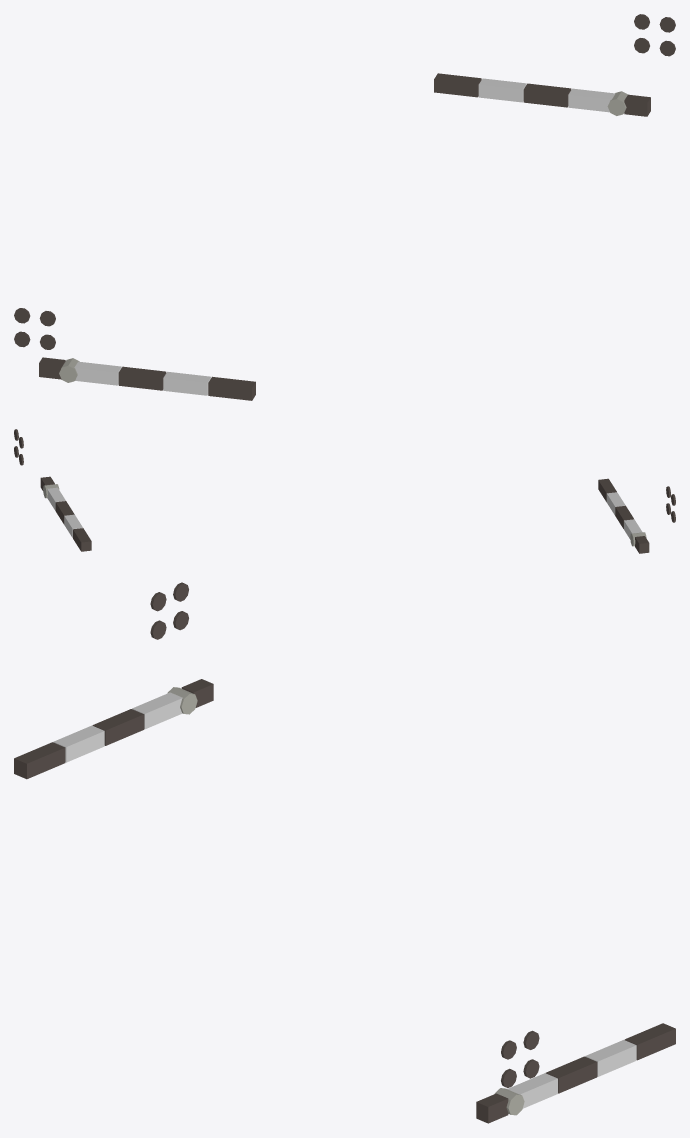
Rendered from SM_PasoNivel_45E_v1_FocosDobles_LOD1.fbx.
The picture shows the model from 3 angles, top to bottom: view 1: azimuth 30°, elevation 25°; view 2: azimuth 150°, elevation 25°; view 3: azimuth 270°, elevation 25°; orthographic projection. The views are drawn at different scales.
Parts seen in each view (by area): view 1: Barrera_2, Barrera_1, Luces_B, Luces_A; view 2: Barrera_1, Barrera_2, Luces_B; view 3: Barrera_1, Barrera_2, Luces_B, Luces_A.
Boxes of the visible parts, <box> form: Barrera_2: <box>39,357,255,400</box>; Barrera_1: <box>434,73,650,116</box>; Luces_B: <box>39,17,675,349</box>; Luces_A: <box>14,14,649,347</box>; Barrera_1: <box>40,476,91,551</box>; Barrera_2: <box>598,478,649,553</box>; Luces_B: <box>14,429,670,514</box>; Barrera_1: <box>476,1023,675,1123</box>; Barrera_2: <box>14,679,213,779</box>; Luces_B: <box>150,592,516,1087</box>; Luces_A: <box>173,582,539,1078</box>.
Size of what is drawn, in the model's own units: 19.26 by 1.91 by 11.6.
